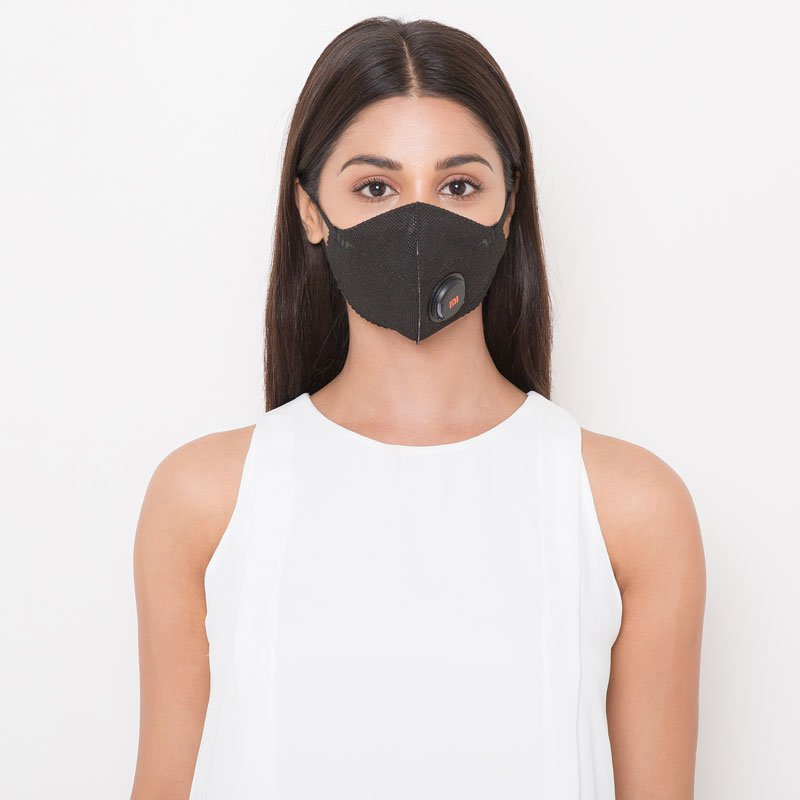mask: (272, 88, 528, 344)
